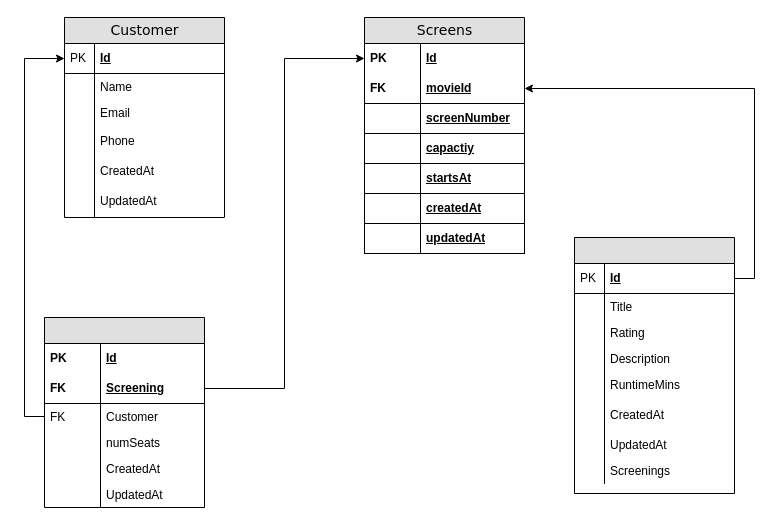
This 780x528 diagram has some shape labels left out. The box of each missing label's shape, as (x1, y1, x2, y2) in pixels:
Movies: (574, 236, 734, 494)
Tickets: (44, 316, 204, 508)
